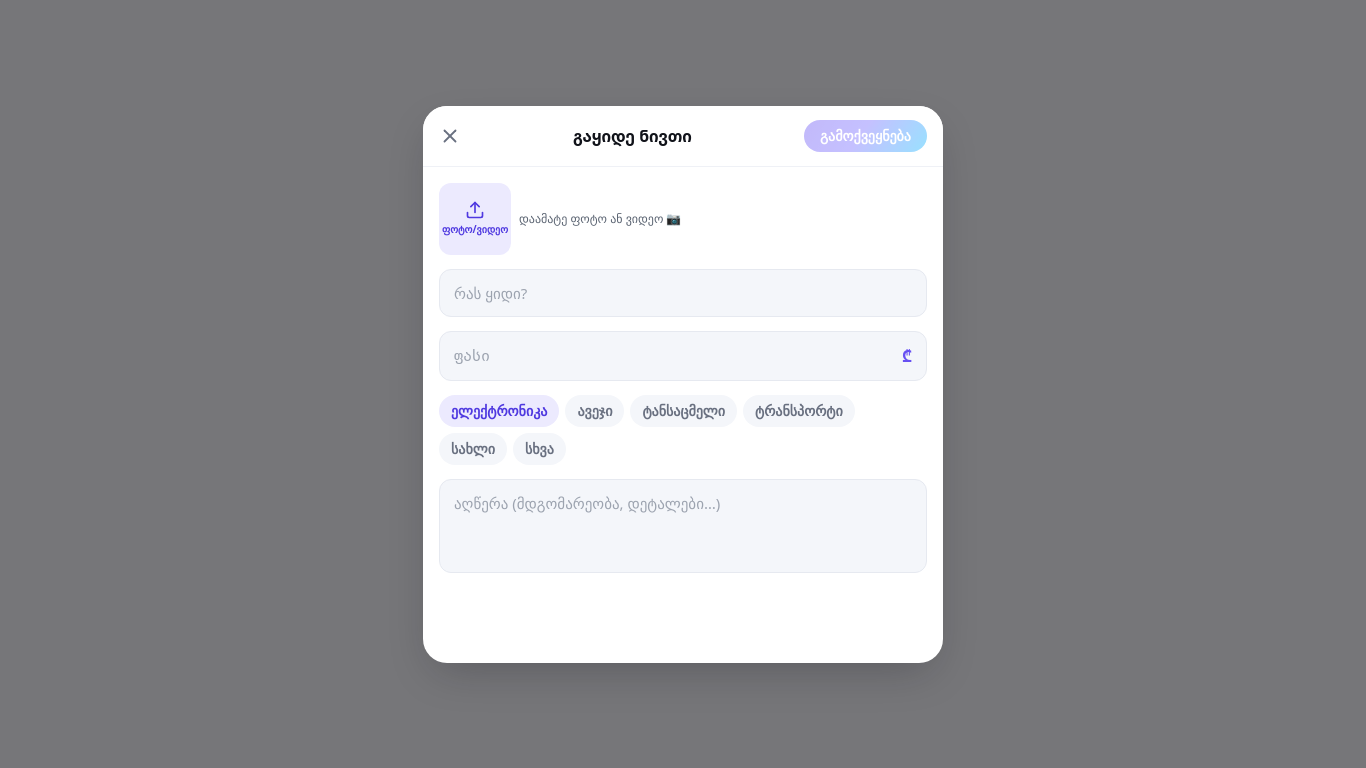
NewListing › strips non-digit characters from the price field
The image size is (1366, 768).
Type "1a5b0" into the field with placeholder "ფასი" at coordinates (674, 356), box 454,345 -> 894,367
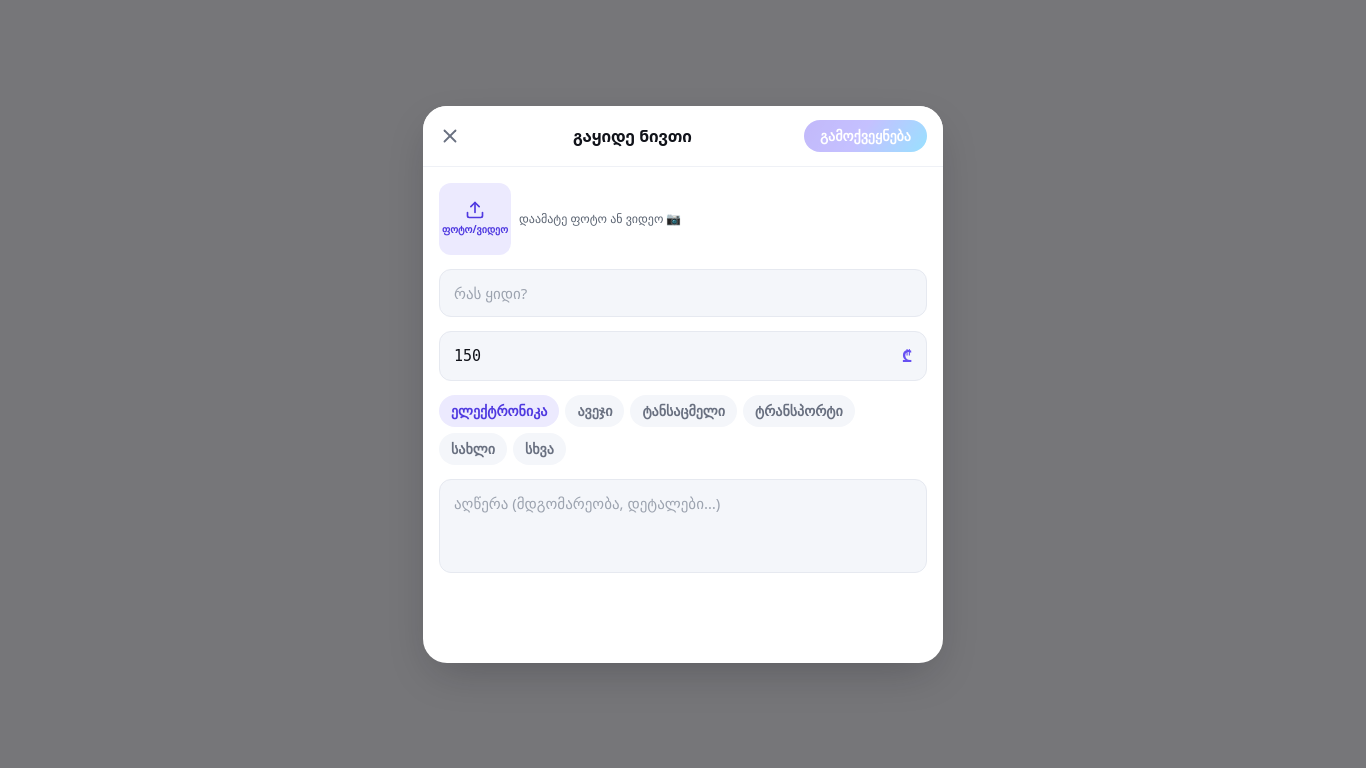
Now the field with placeholder "ფასი" holds "150", box 454,345 -> 894,367
